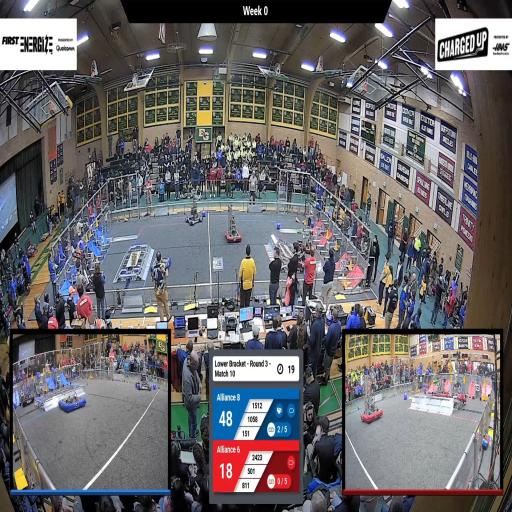robot: (79, 252, 106, 295), (222, 206, 244, 248), (151, 245, 171, 280), (187, 195, 205, 232), (296, 220, 315, 255), (292, 247, 310, 275)
